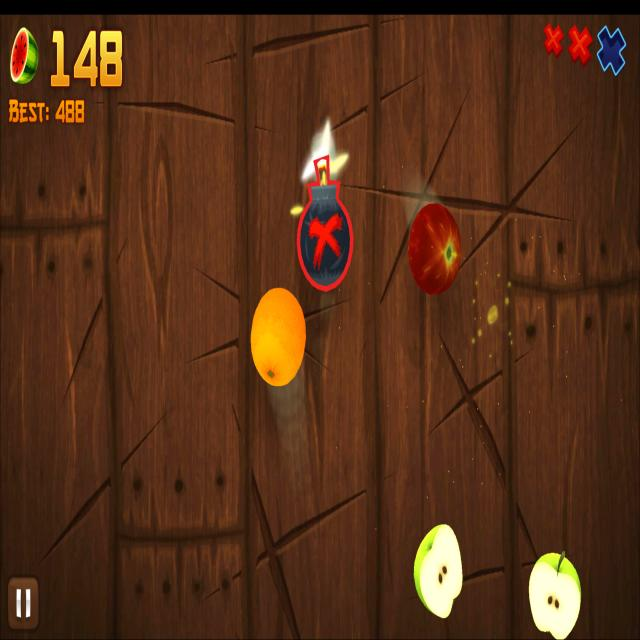bomb: (296, 156, 353, 292)
fruit: (250, 288, 305, 386), (408, 203, 461, 294)
